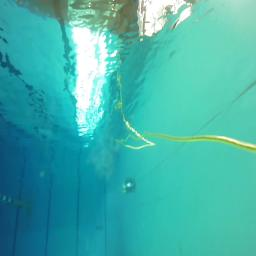Full: (122, 178, 135, 193)
